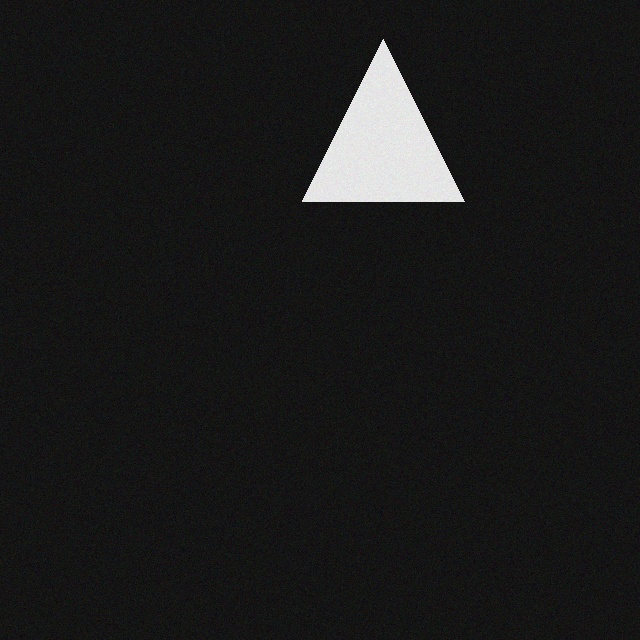triangle: (316, 32, 478, 194)
